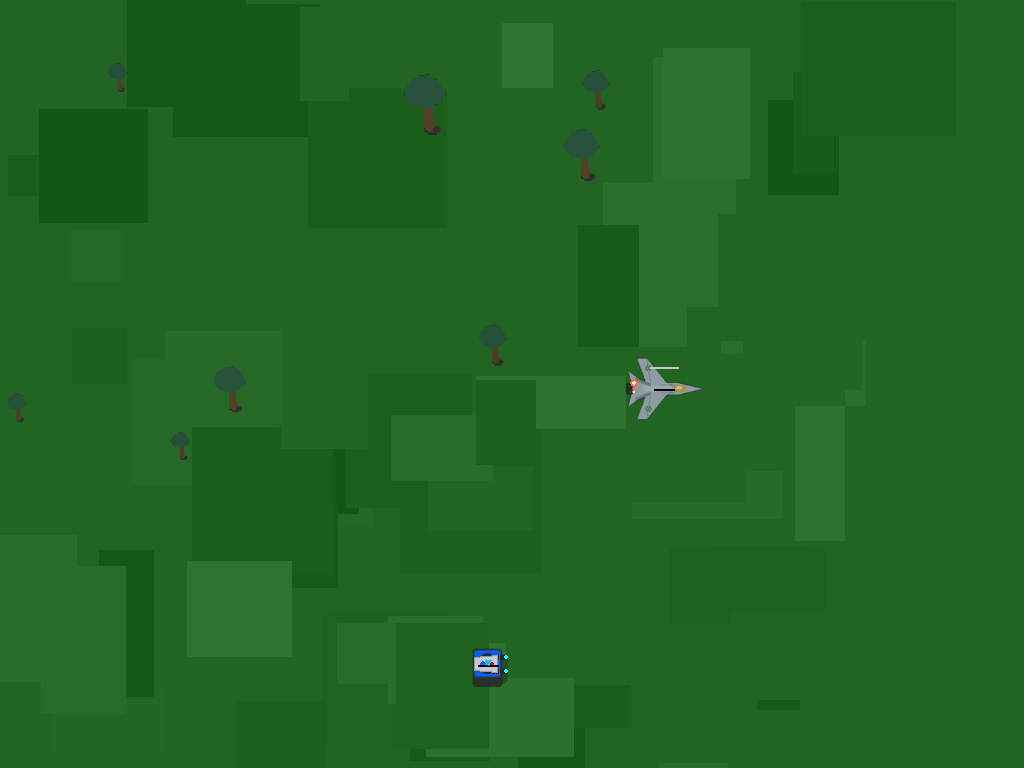AntiAirTurret: (463, 640, 511, 688)
FighterJet_chn: (643, 367, 684, 408)
